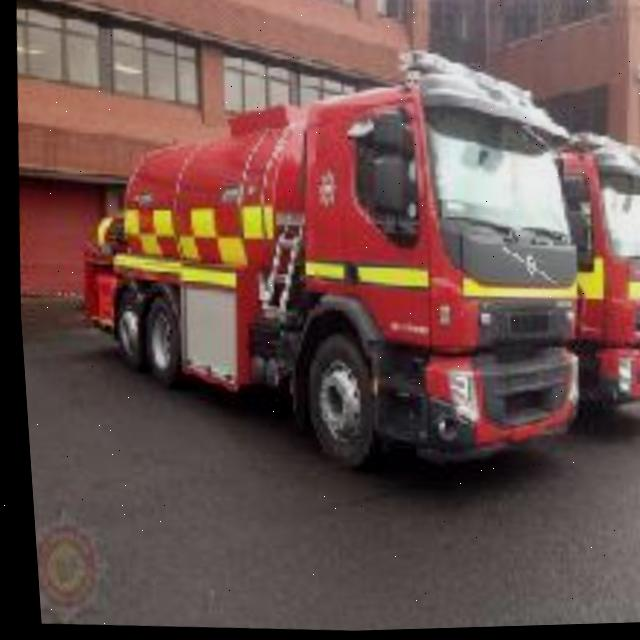emergency: (49, 78, 581, 480), (535, 145, 640, 426)
